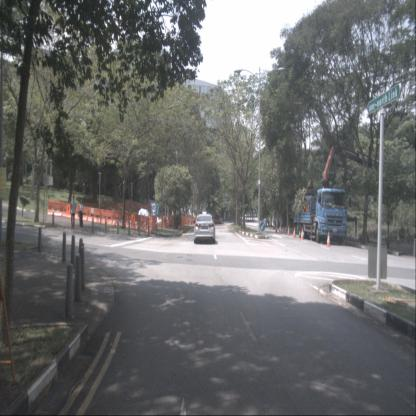barrier: (47, 200, 63, 216), (73, 206, 88, 222), (87, 207, 102, 223), (100, 209, 113, 225), (62, 203, 74, 219), (139, 214, 149, 233), (112, 211, 124, 226), (130, 214, 140, 230), (124, 212, 132, 229), (150, 214, 158, 230), (148, 215, 154, 235), (162, 216, 167, 228), (181, 216, 186, 225)
cone: (326, 232, 332, 247), (300, 227, 304, 241), (292, 226, 296, 238), (286, 225, 290, 237), (279, 224, 282, 234), (275, 225, 277, 233)
